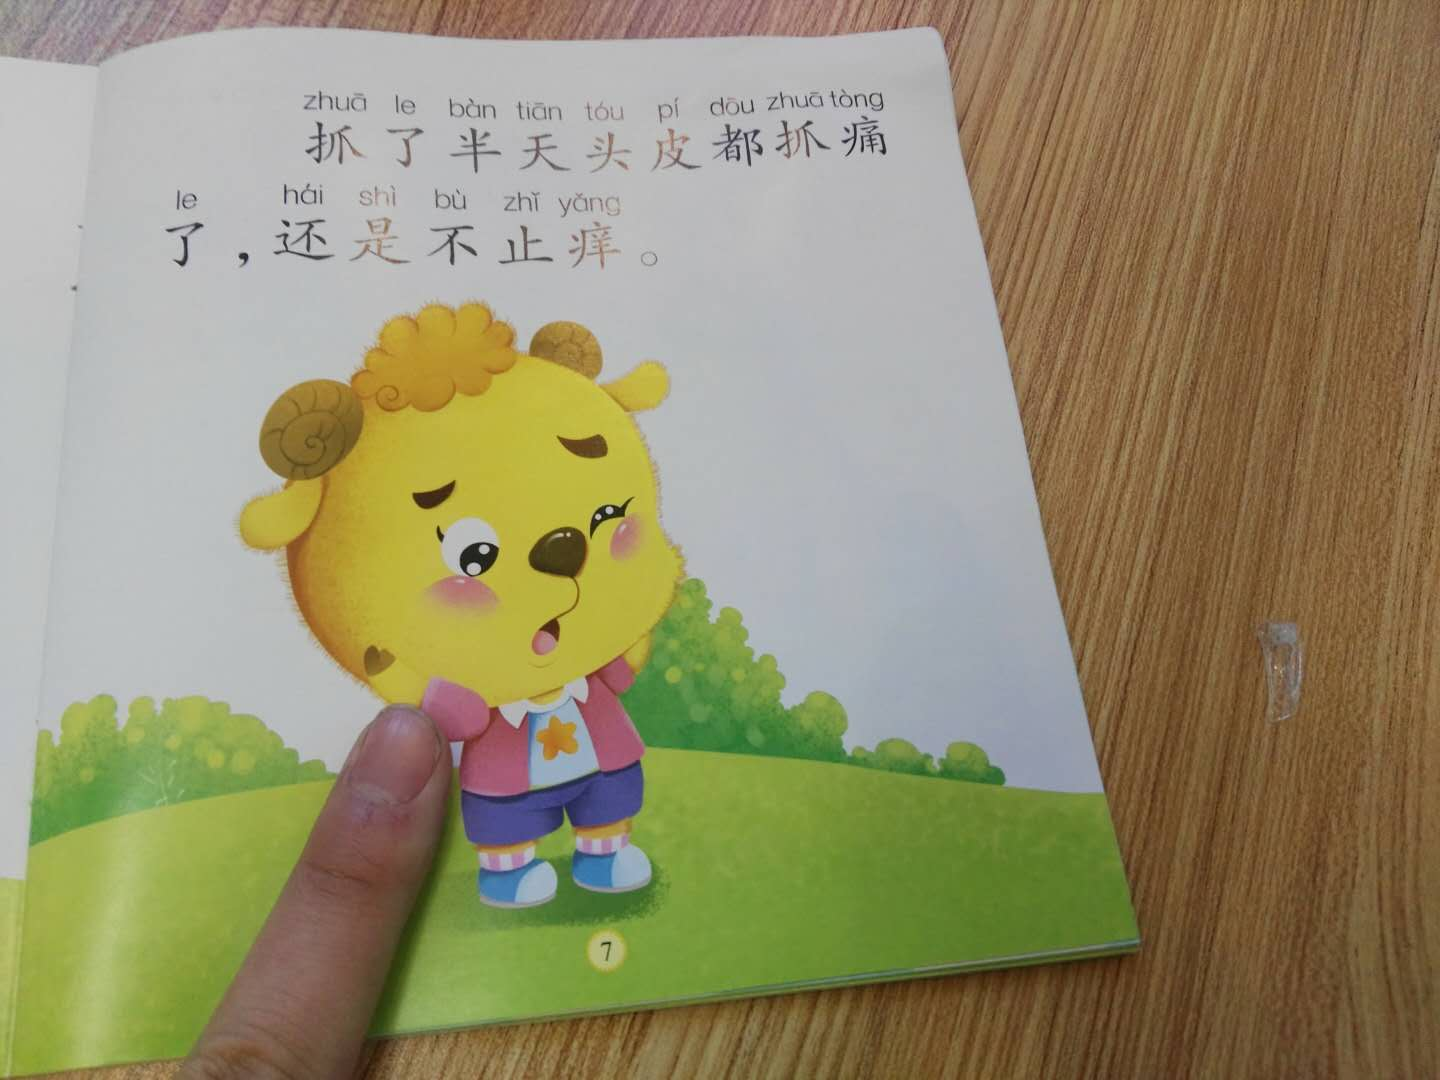finger: (293, 657, 488, 937)
